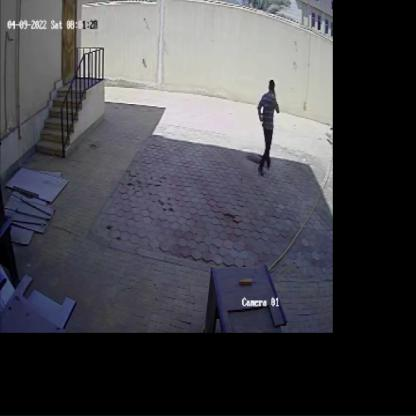handgun: (258, 102, 269, 130)
